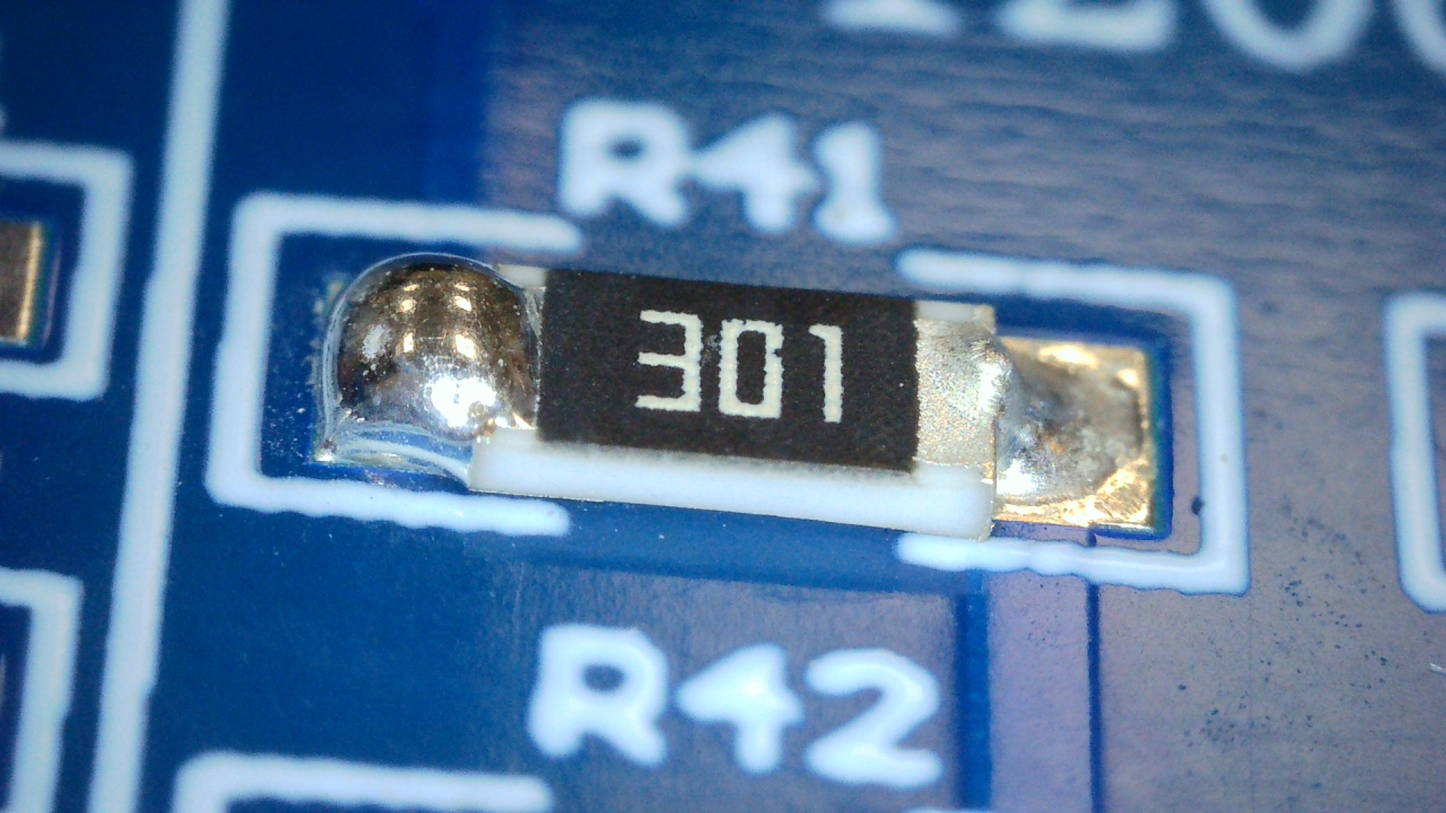NG: (328, 252, 544, 459), (917, 299, 1134, 504), (925, 325, 1010, 430)
